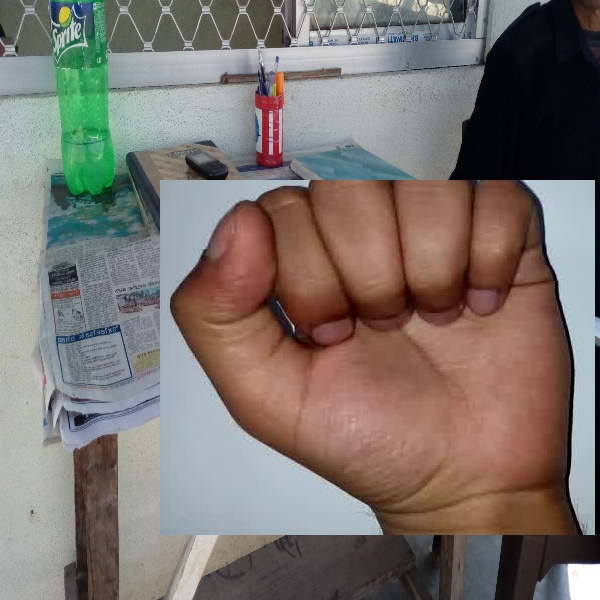A: (160, 180, 595, 535)
